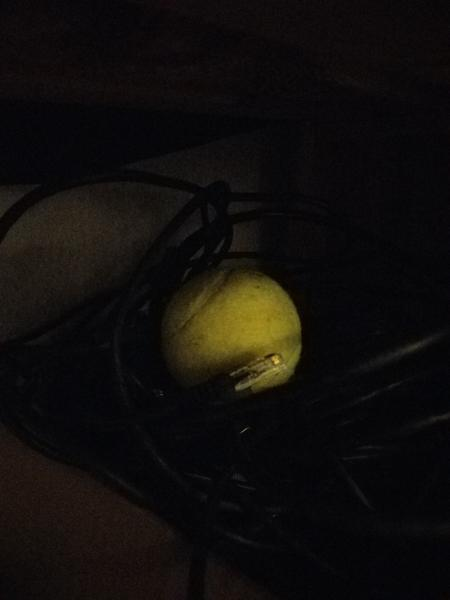Tennisball: (161, 265, 305, 411)
